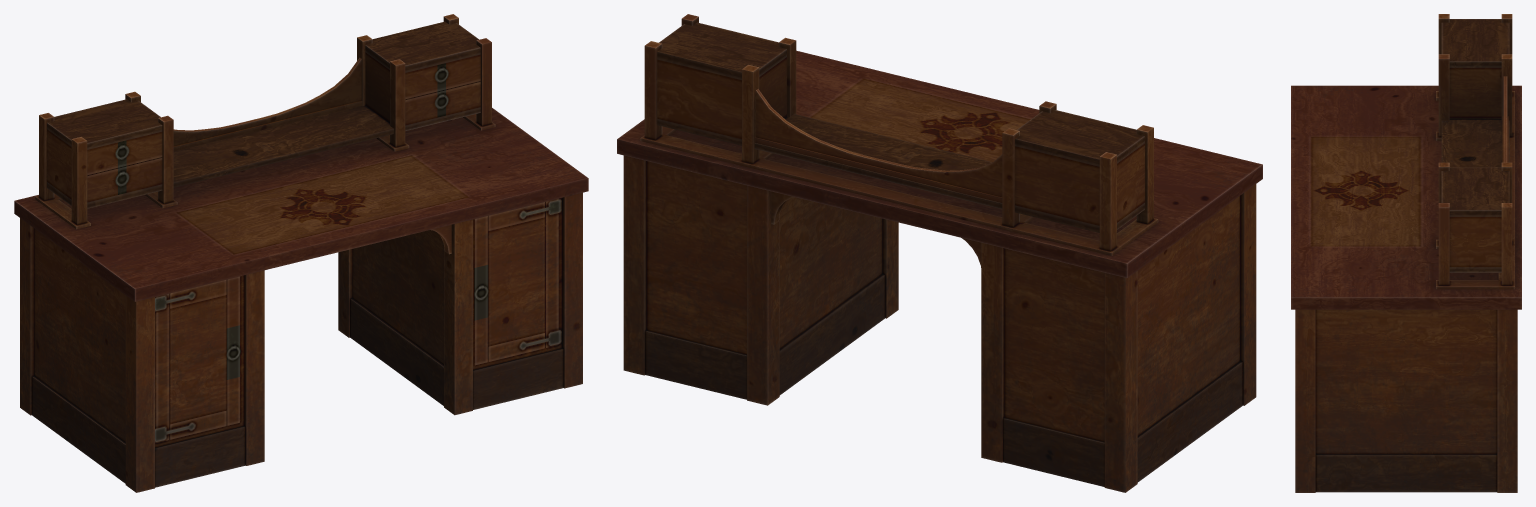
The model's file is DS_WizLab_Furn_Desk.fbx.
3 renders of one model, left to right at view 1: azimuth 30°, elevation 25°; view 2: azimuth 150°, elevation 25°; view 3: azimuth 270°, elevation 25°, orthographic. The views are drawn at different scales.
Parts seen in each view (by area): view 1: DS_WizLab_Furn_Desk; view 2: DS_WizLab_Furn_Desk; view 3: DS_WizLab_Furn_Desk.
Part boxes in pixels (x1,y1,x2,y2): DS_WizLab_Furn_Desk: [14, 14, 588, 492]; DS_WizLab_Furn_Desk: [617, 14, 1262, 492]; DS_WizLab_Furn_Desk: [1291, 14, 1521, 492].
Bounding box in the file's own units: 185 × 113 × 85.
Materials: 1 (1 with a texture image).
